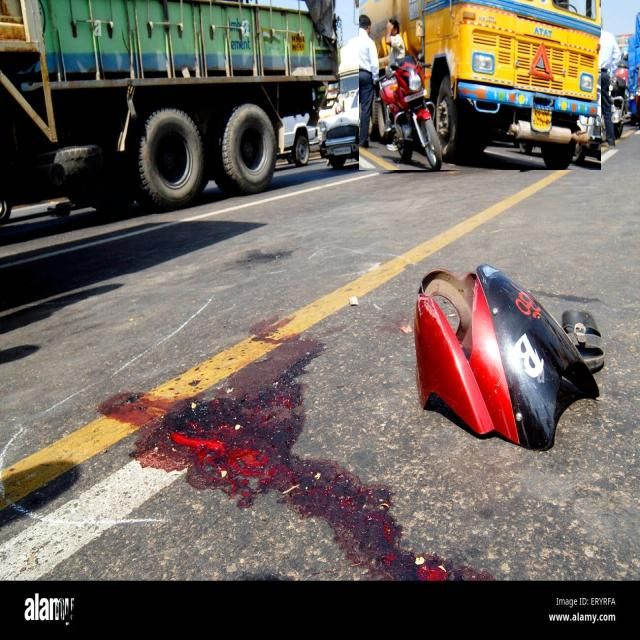motorcycle: (518, 56, 580, 170)
truck: (359, 0, 601, 170)
